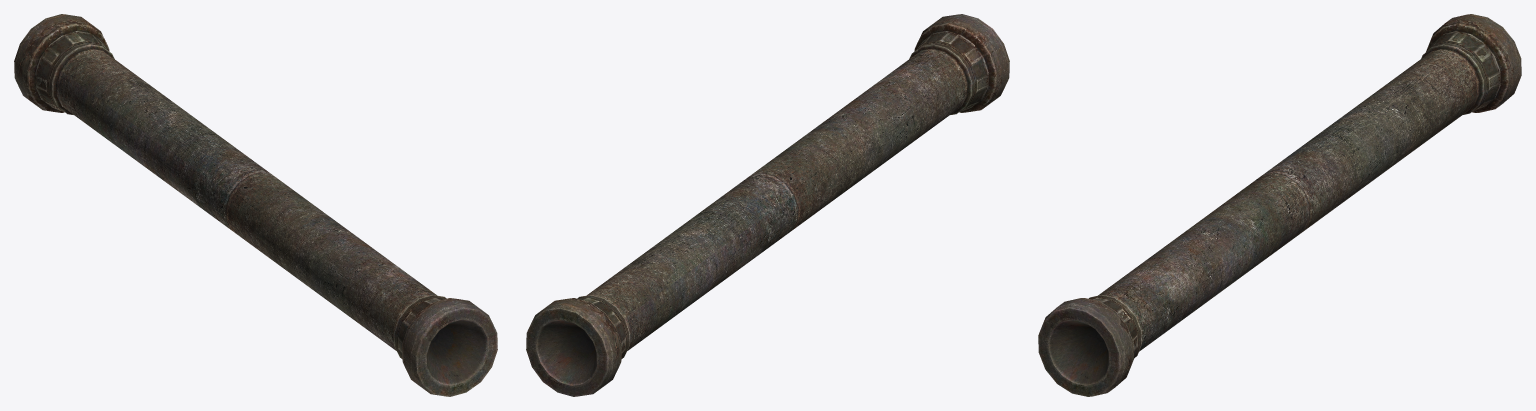
File: pipe_large_long_pplant.dae
3 renders of one model, left to right at view 1: azimuth 30°, elevation 25°; view 2: azimuth 150°, elevation 25°; view 3: azimuth 330°, elevation 25°, orthographic.
Visible parts, largest first — view 1: polySurface3; view 2: polySurface3; view 3: polySurface3.
Boxes of the visible parts, bbox=[...] form: polySurface3: bbox=[14, 14, 497, 396]; polySurface3: bbox=[526, 14, 1009, 396]; polySurface3: bbox=[1038, 14, 1521, 396].
Size of the model in its own units: 0.4907 by 0.4907 by 4.
